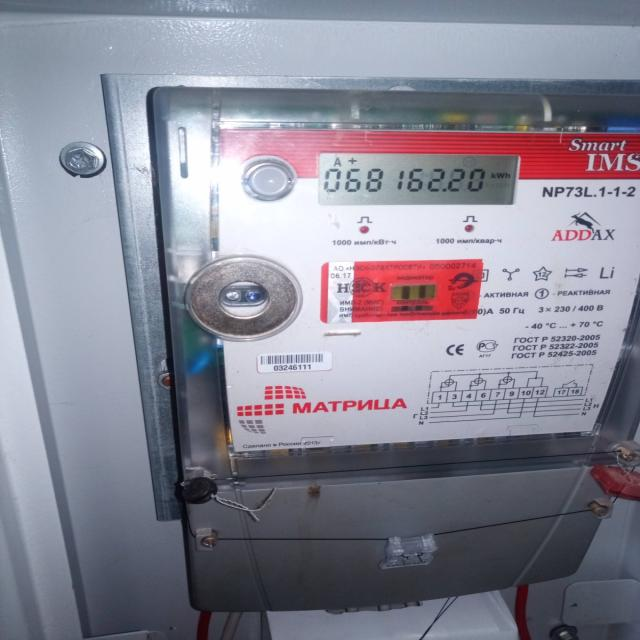Display: (318, 154, 518, 205)
meter_matrica: (130, 75, 640, 611)
meter_number: (256, 348, 335, 372)
seal_elso: (377, 531, 436, 572)
seal_imp: (321, 260, 483, 324)
